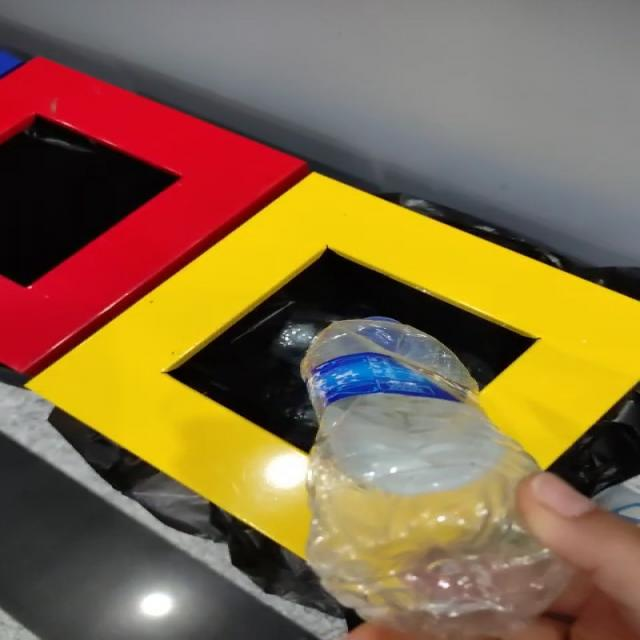plastic: (301, 319, 571, 640)
